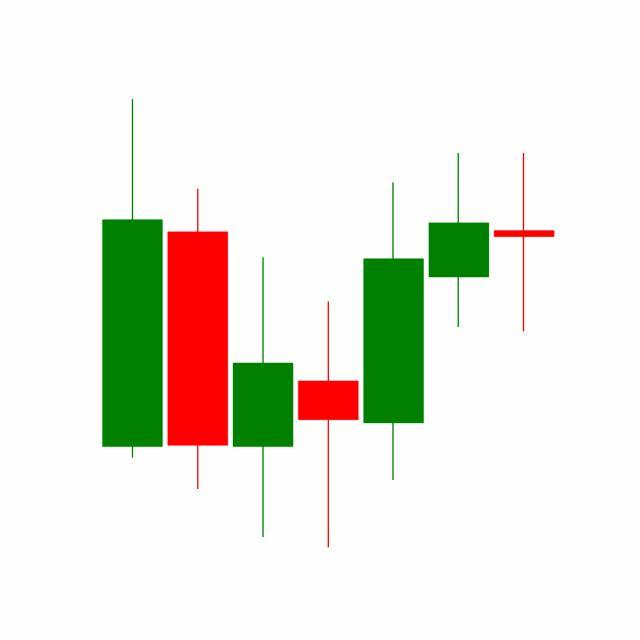Three Outside Up-Down: (295, 148, 492, 548)
